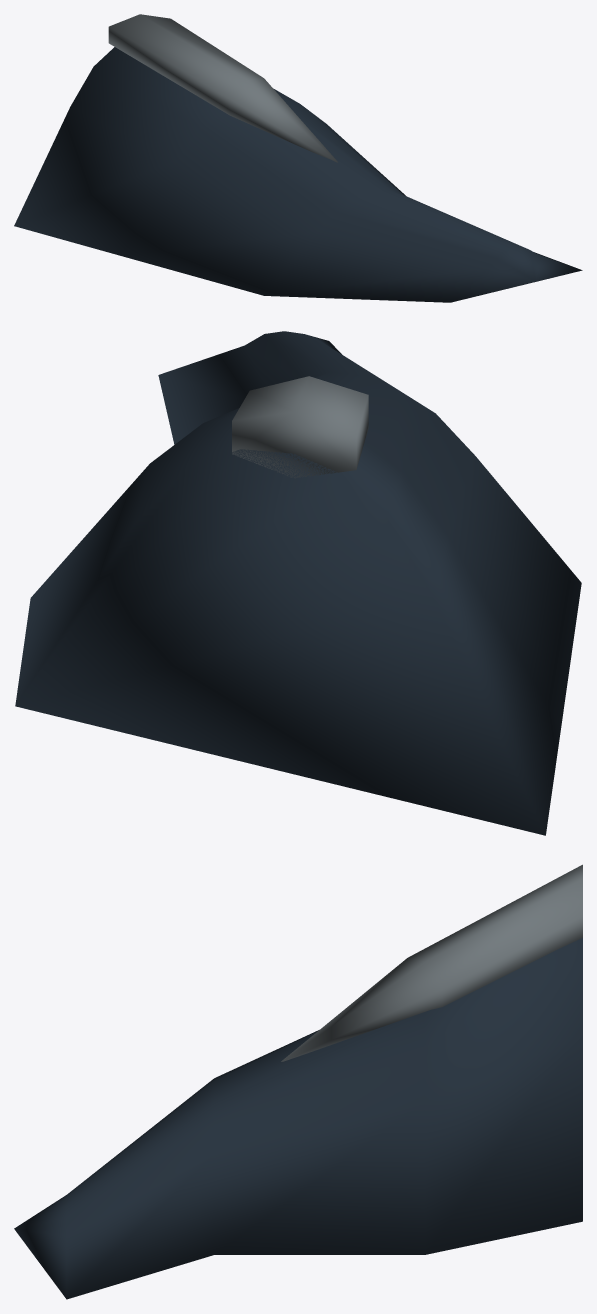
File: newshn-201-f3.glb
3 renders of one model, top to bottom at view 1: azimuth 30°, elevation 25°; view 2: azimuth 150°, elevation 25°; view 3: azimuth 270°, elevation 25°, orthographic. The views are drawn at different scales.
Visible parts, largest first — view 1: newshn-201-f3; view 2: newshn-201-f3; view 3: newshn-201-f3.
Part boxes in pixels (x1,y1,x2,y2): newshn-201-f3: (14, 14, 582, 302); newshn-201-f3: (15, 331, 581, 835); newshn-201-f3: (14, 864, 582, 1299).
Size of the model in its own units: 0.4792 by 0.2175 by 0.45.
